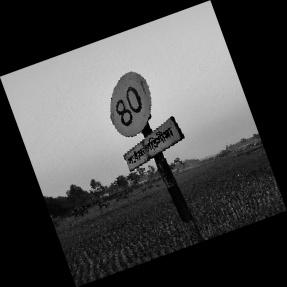Speed-limit: (109, 72, 186, 175)
